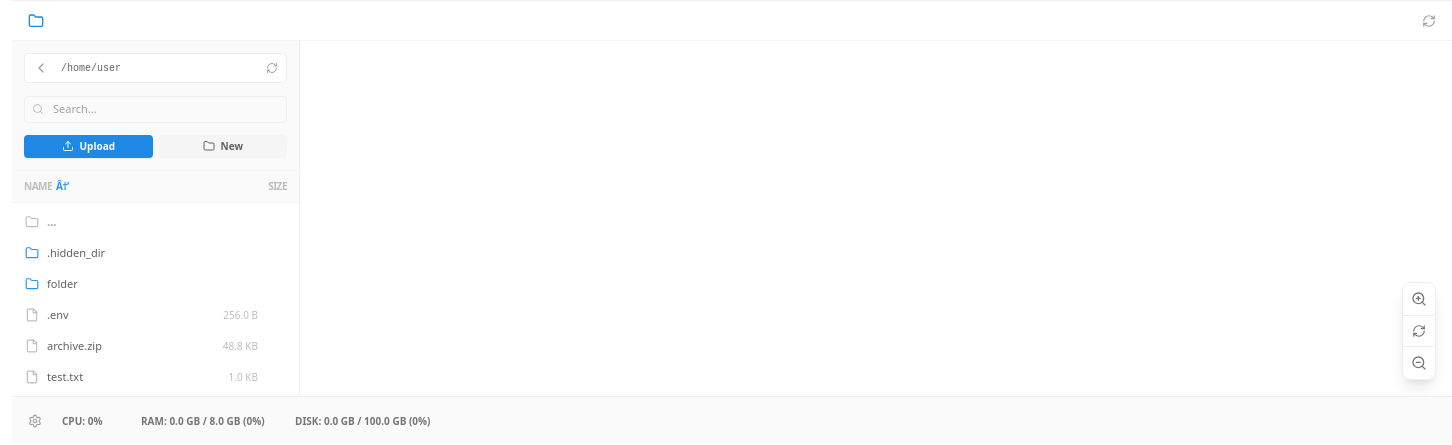
Test case: SSHSessionView Component › shows hidden files by default and filters them after toggling
Expected: the text "test.txt" is shown, [47,369,83,384]
Expected: the text ".env" is shown, [47,307,68,322]
// Right click on the file explorer background to open the context menu
Right-click the button "Name â†‘" at (124, 186), box [24,178,223,194]
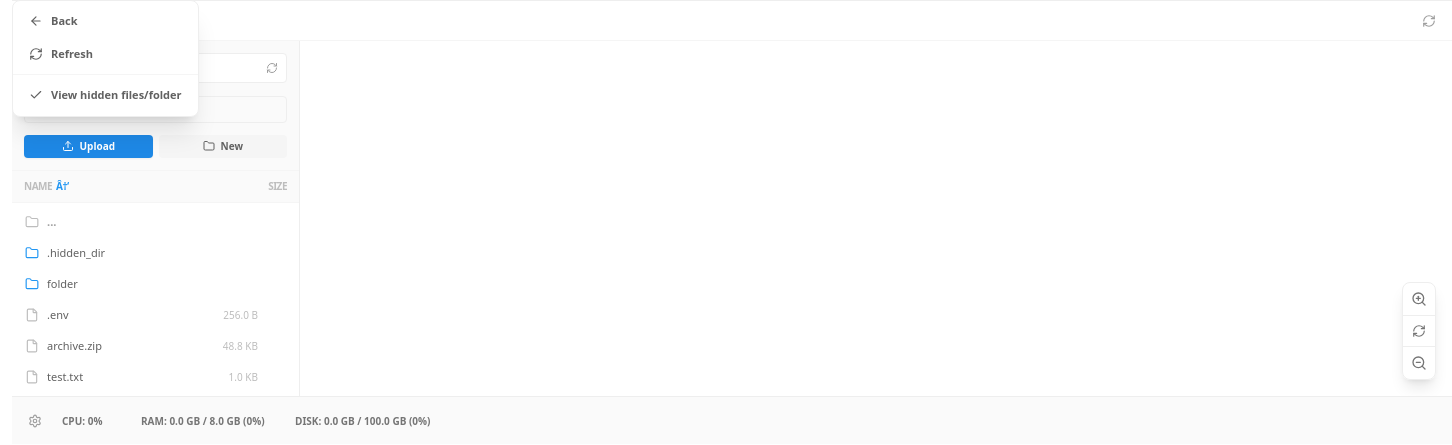
Expected: the button "View hidden files/folder" is shown
// Click "View hidden files/folder"
Click the button "View hidden files/folder". click: (105, 95)
box: [13,79,198,112]
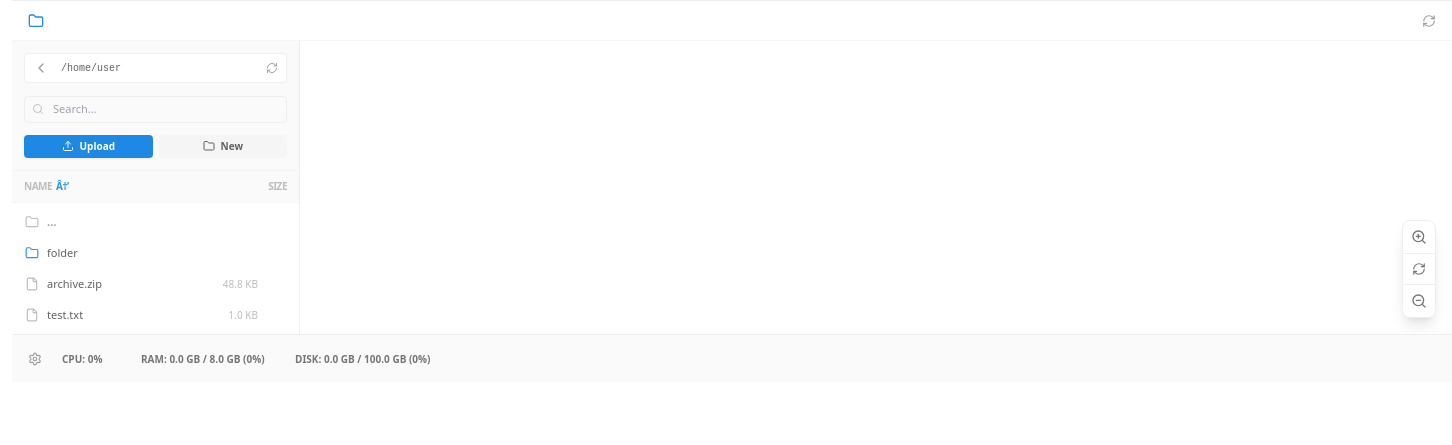
Expected: the button ".env" is gone
